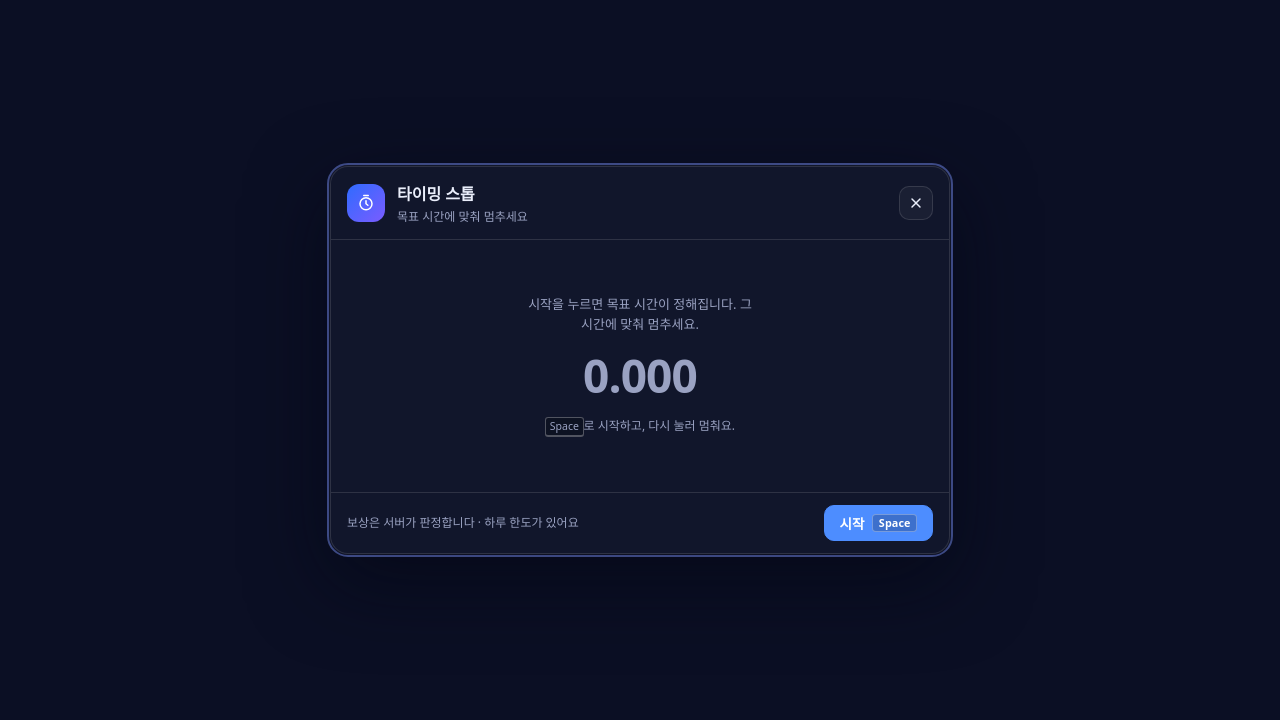
Test: 세션 발급과 진행 › 403 은 회원 전용 안내로 끝난다 — 플레이시키지 않는다
Click the button "시작 Space": [878, 523] box [824, 505, 933, 541]
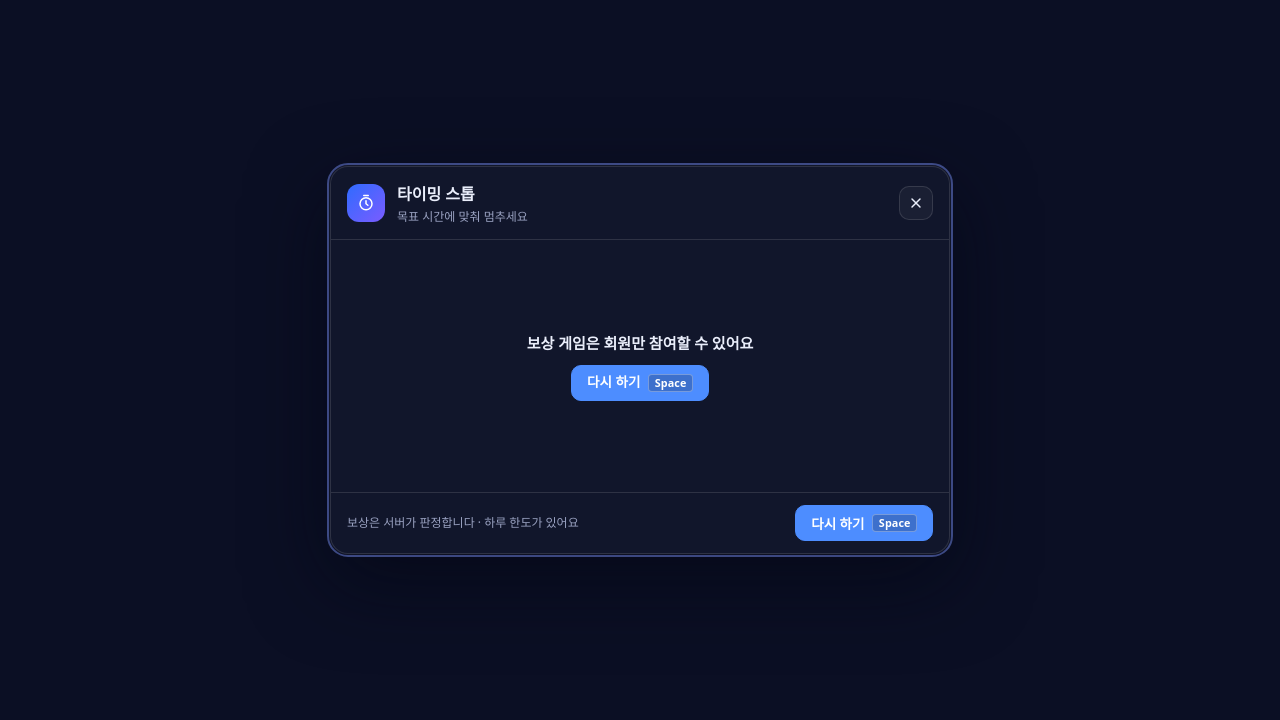
expect the text "보상 게임은 회원만 참여할 수 있어요" is shown: met, box [527, 331, 753, 355]
